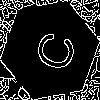C: (25, 25, 78, 75)
